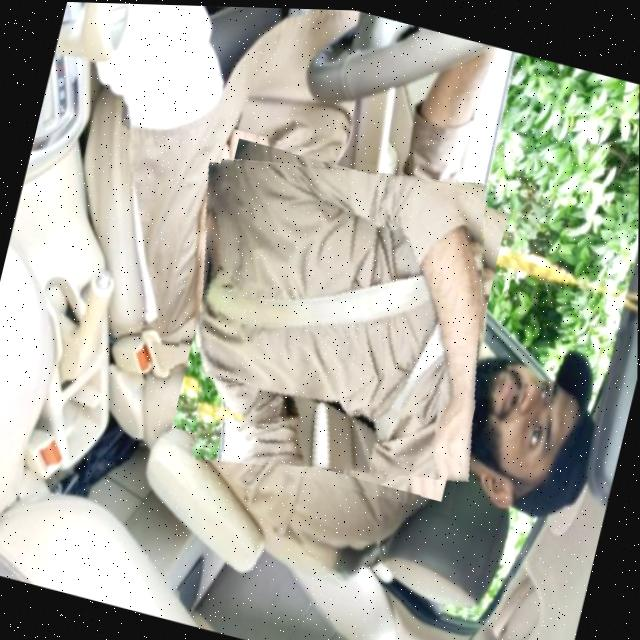seatbelt: (154, 124, 523, 514)
